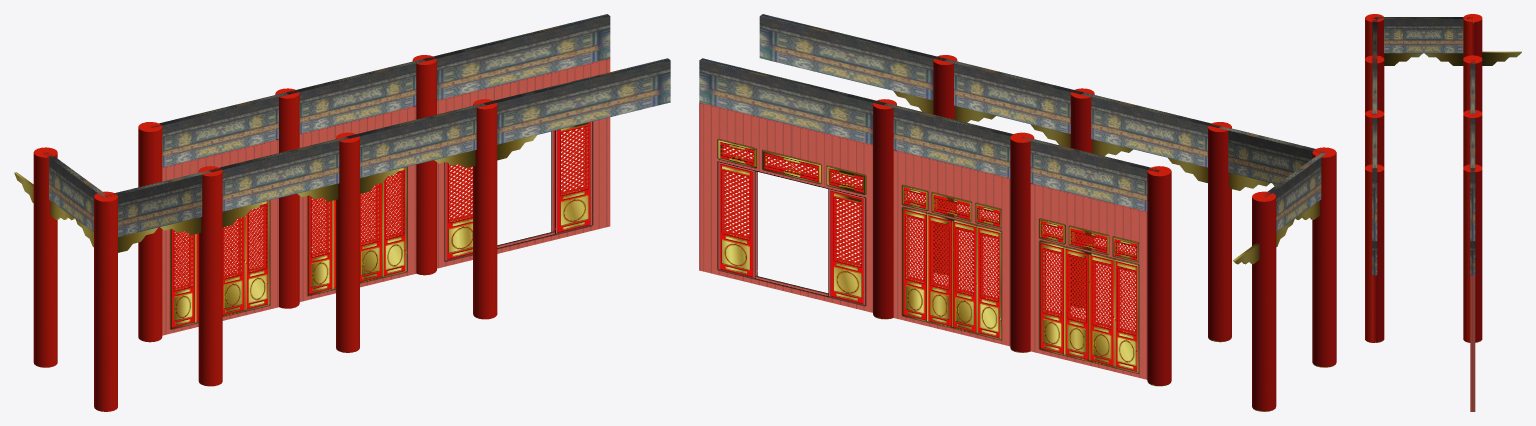
File: cornerwallwalldoor.dae
3 views of the same model, side by side, from view 1: azimuth 30°, elevation 25°; view 2: azimuth 150°, elevation 25°; view 3: azimuth 270°, elevation 25° (orthographic). The views are drawn at different scales.
Visible parts, largest first — view 1: MainNode; view 2: MainNode; view 3: MainNode.
Boxes of the visible parts, x1,y1,x2,y2 form: MainNode: (14,14,670,411); MainNode: (699,14,1336,411); MainNode: (1365,14,1521,411).
Size of the model in its own units: 13.71 by 4.8 by 4.
Materials: 1 (1 with a texture image).
